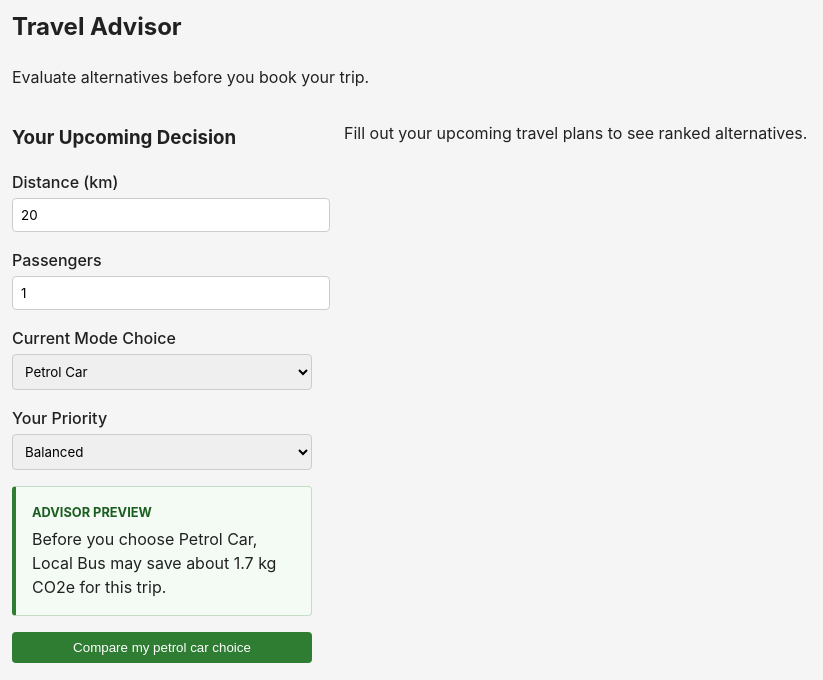
Test: TravelDecisionUI › shows a ghost alternative preview only when the form input is valid
Expected: the message shows "Before you choose Petrol Car", [32,528,276,596]
Replace the text in the number field labelled "Distance (km)" with "-10" at (171, 215), box [12,198,330,232]
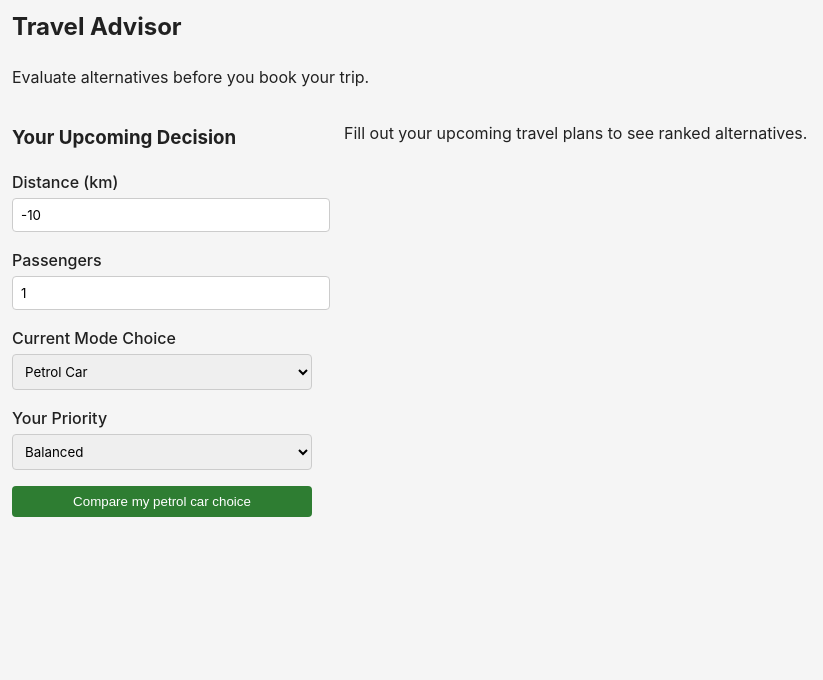
Now the text "Before you choose Petrol Car" is gone
